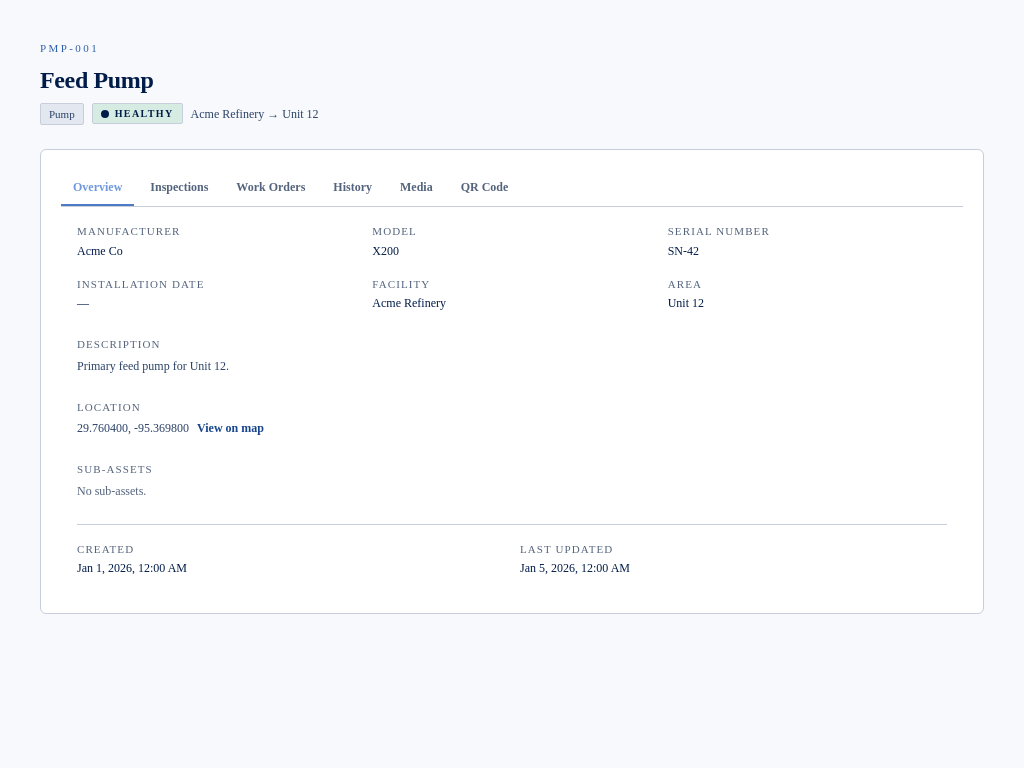
Test: asset detail page › shows the honest empty state for each reserved tab
Check: the heading "Feed Pump" is shown, box [40, 66, 153, 92]
Click the tab "Inspections".
click(179, 188)  # box [138, 170, 220, 206]
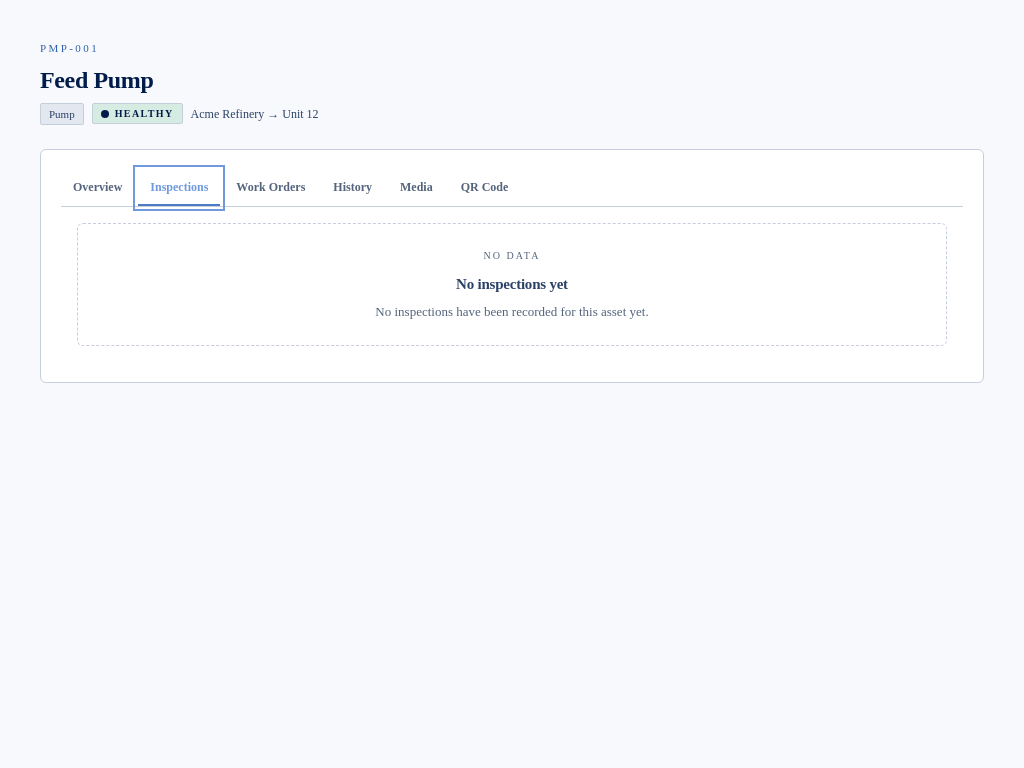
Check: the heading "No inspections yet" is shown, box [456, 275, 568, 294]
Click the tab "Work Orders".
click(271, 188)  # box [224, 170, 317, 206]
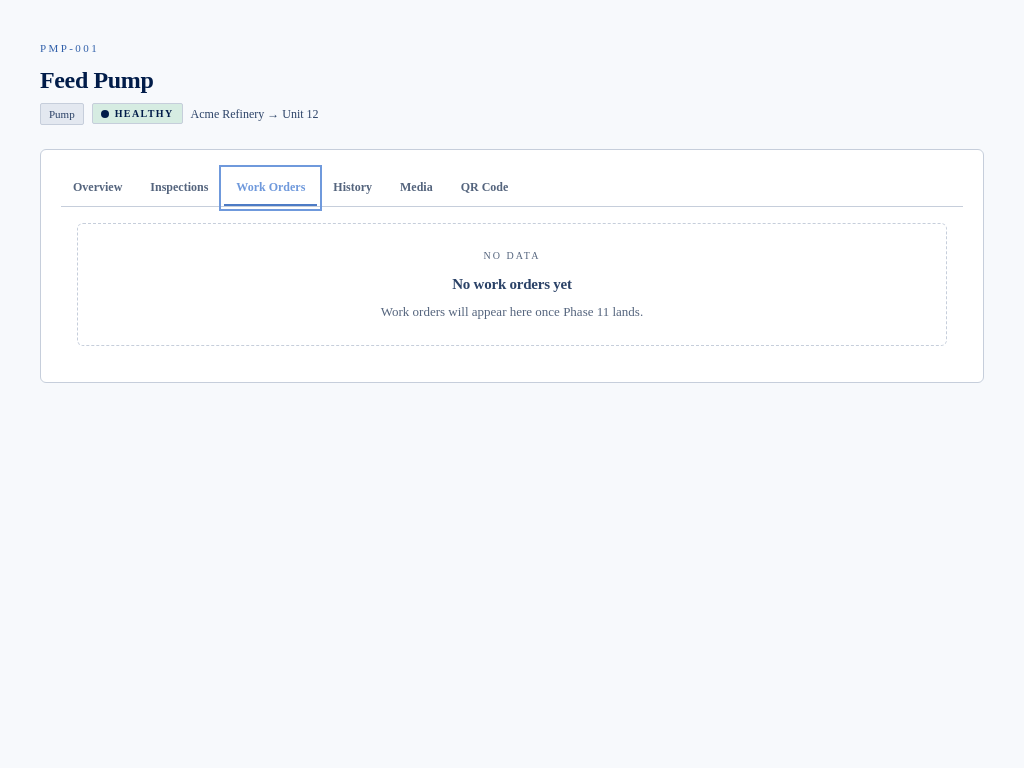
Check: the heading "No work orders yet" is shown, box [452, 275, 572, 294]
Click the tab "Media".
click(416, 188)  # box [388, 170, 445, 206]
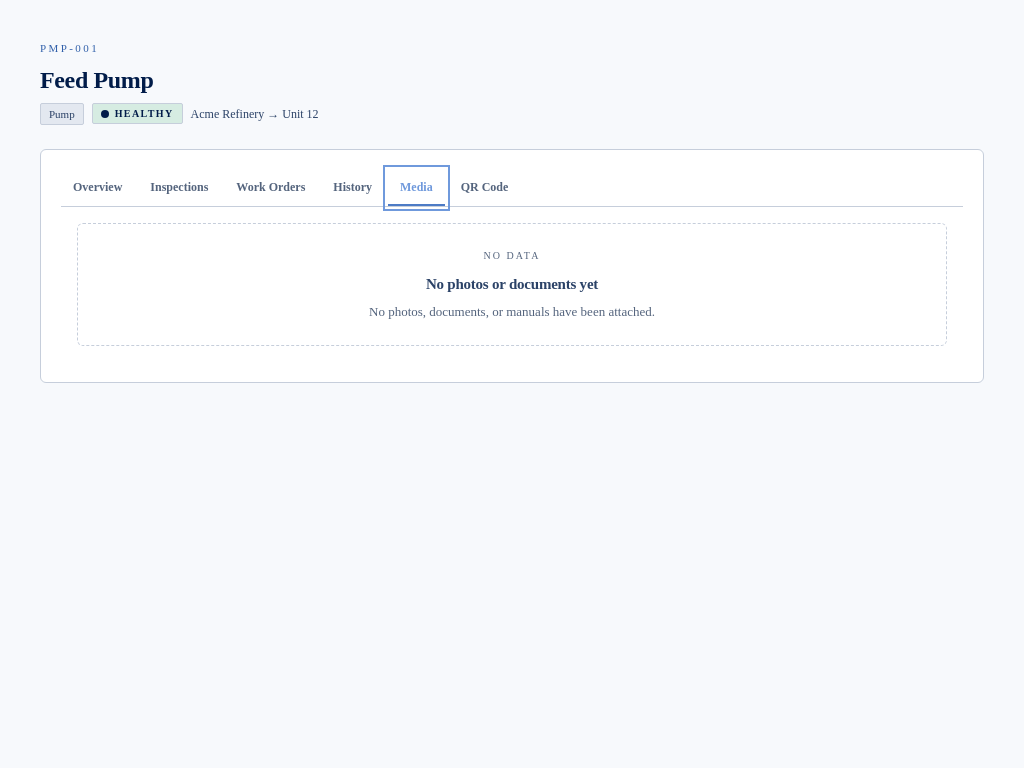
Check: the heading "No photos or documents yet" is shown, box [426, 275, 598, 294]
